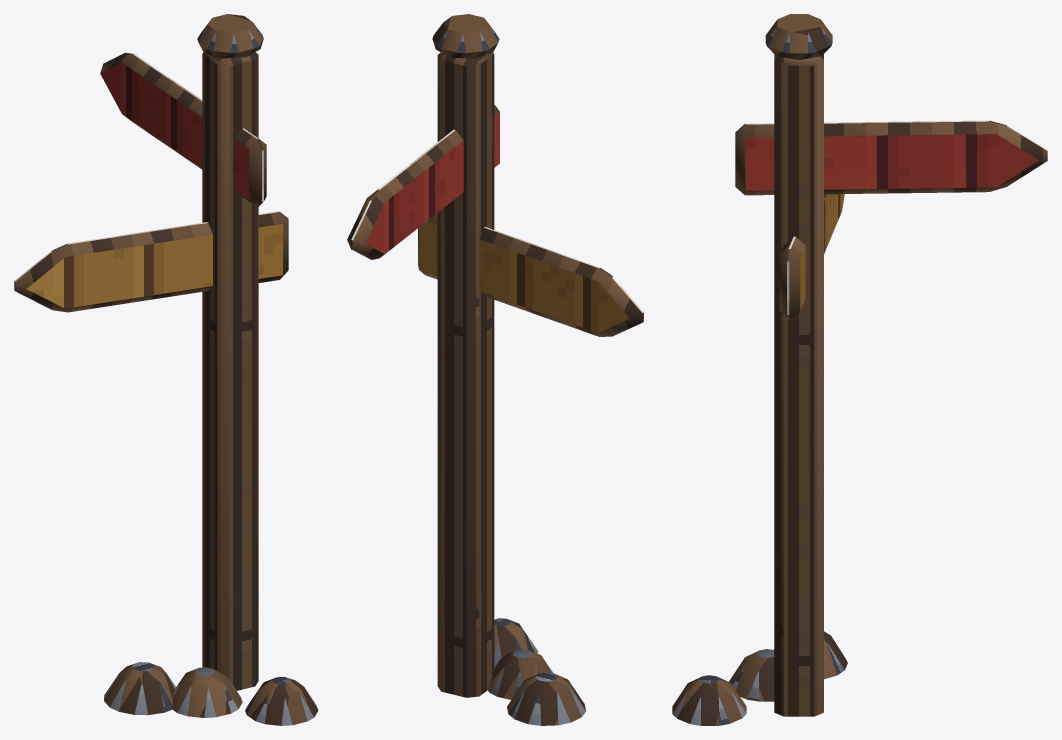
Rendered from signpost_0.glb.
The picture shows the model from 3 angles, left to right: view 1: azimuth 30°, elevation 25°; view 2: azimuth 150°, elevation 25°; view 3: azimuth 270°, elevation 25°; orthographic projection. The views are drawn at different scales.
Visible parts, largest first — view 1: signpost_1; view 2: signpost_1; view 3: signpost_1.
Boxes of the visible parts, box(x1,y1,x2,y2) form: signpost_1: box(14, 14, 318, 725); signpost_1: box(347, 14, 643, 725); signpost_1: box(672, 14, 1047, 725).
Bounding box in the file's own units: 0.841 × 2.13 × 1.06.
Materials: 6 (6 with a texture image).
